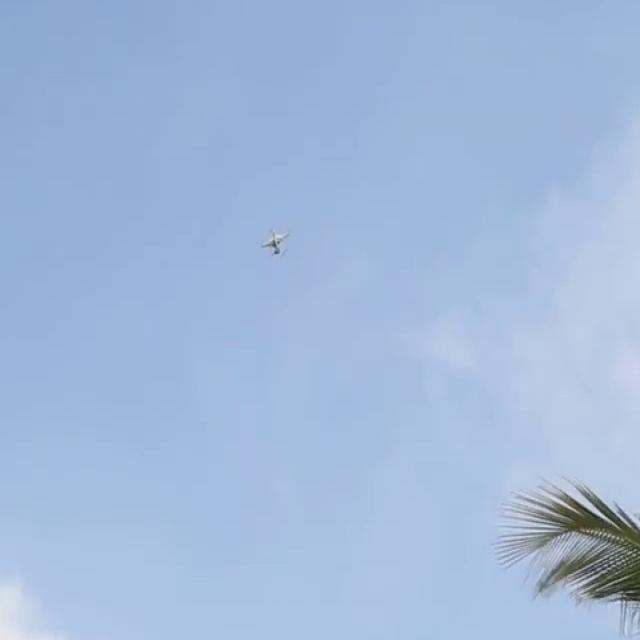drone: (260, 214, 296, 263)
